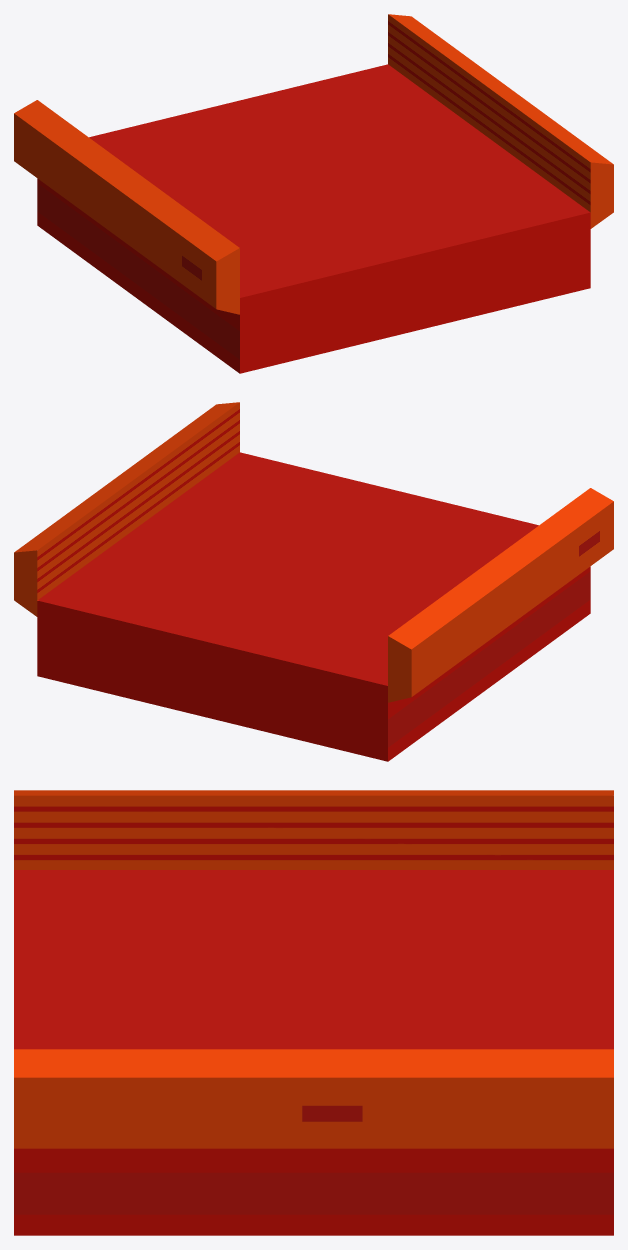
File: Bridge1.fbx
The picture shows the model from 3 angles, top to bottom: view 1: azimuth 30°, elevation 25°; view 2: azimuth 150°, elevation 25°; view 3: azimuth 270°, elevation 25°; orthographic projection. The views are drawn at different scales.
Visible parts, largest first — view 1: Bridge1; view 2: Bridge1; view 3: Bridge1.
Boxes of the visible parts, x1,y1,x2,y2 form: Bridge1: (14, 14, 613, 373); Bridge1: (14, 402, 613, 761); Bridge1: (14, 790, 613, 1235).
Bounding box in the file's own units: 13.6 × 4.11 × 12.
